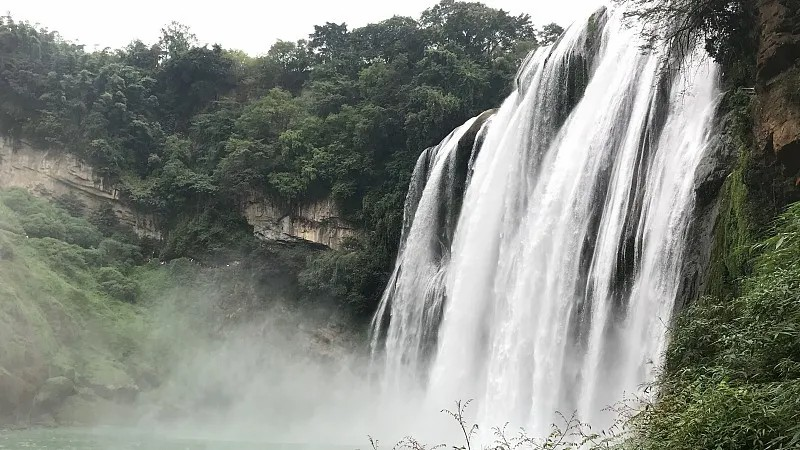Huangguoshu: (369, 1, 722, 450)
